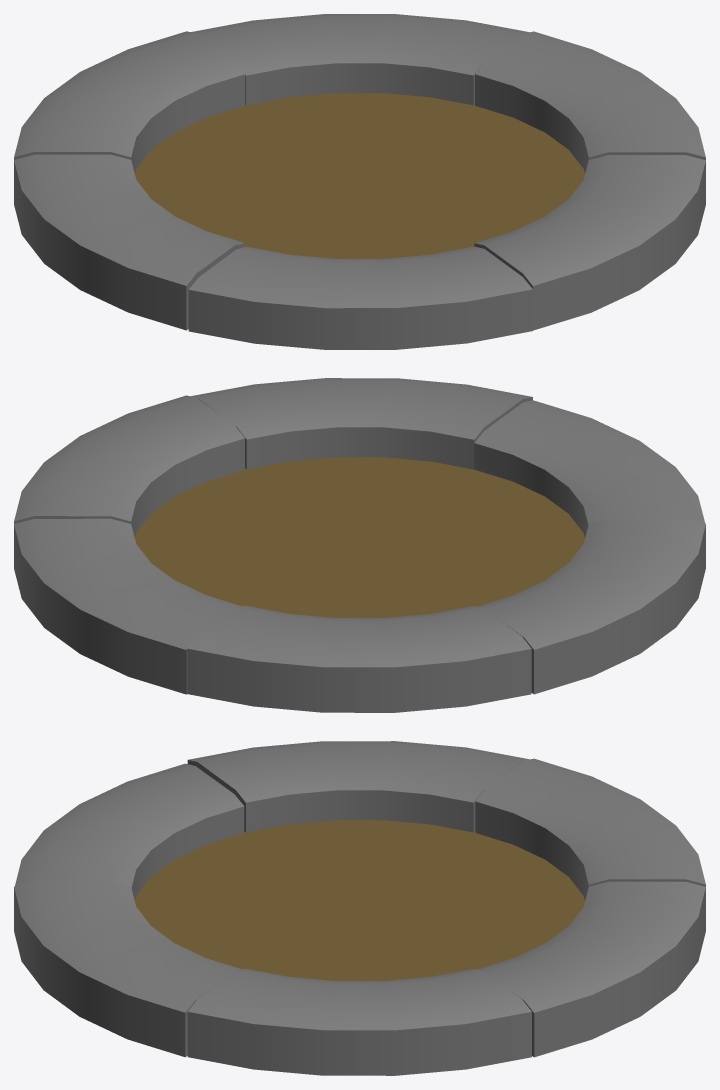
The model's file is SM_treecircle.fbx.
3 views of the same model, one above another, from view 1: azimuth 30°, elevation 25°; view 2: azimuth 150°, elevation 25°; view 3: azimuth 270°, elevation 25° (orthographic).
Parts seen in each view (by area): view 1: Box491; view 2: Box491; view 3: Box491.
Part boxes in pixels (left/top/right/bottom): Box491: left=14, top=14, right=705, bottom=349; Box491: left=14, top=378, right=705, bottom=712; Box491: left=14, top=741, right=705, bottom=1075.
Size of the model in its own units: 98.41 by 8.2 by 98.94.
